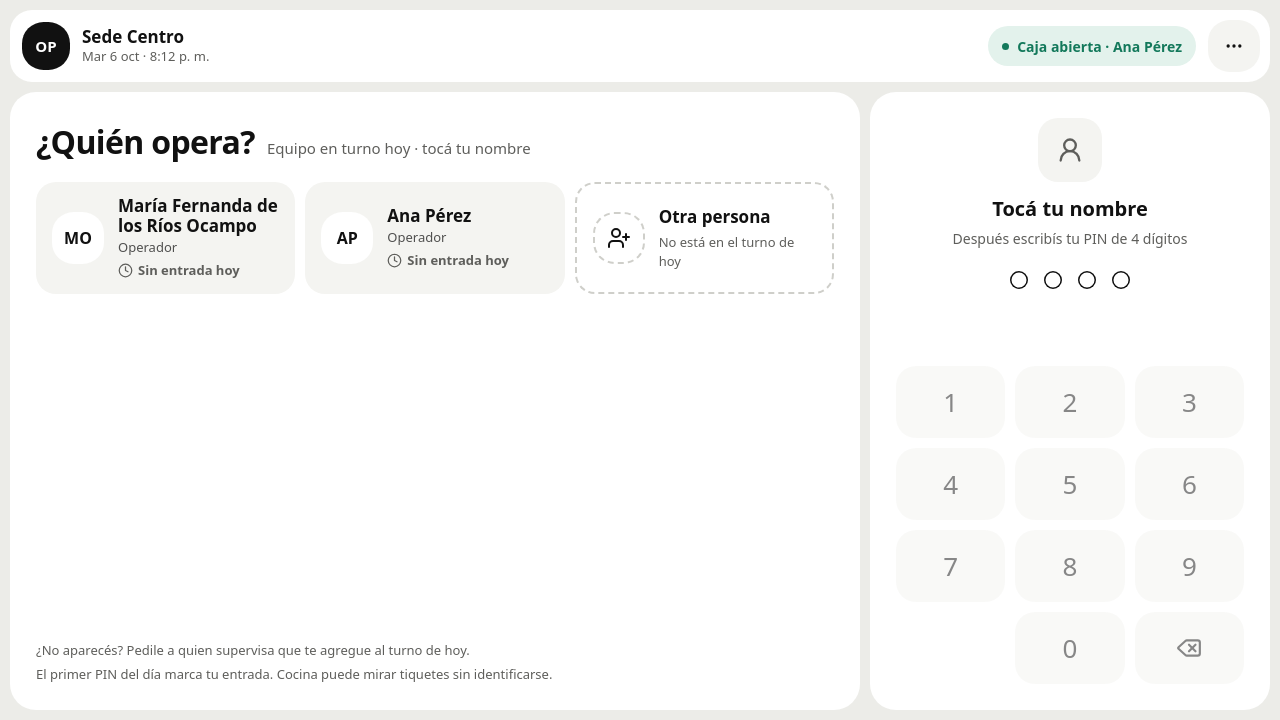
Test: DeviceIdentifyPage — inicio por rol › primero la última persona de la tablet y las del turno; el resto detrás de «Otra persona»
Expected: the radio button with aria-label "María Fernanda de los Ríos Ocampo, Operador" is shown, [36,182,295,294]
Expected: the radio button with aria-label "Ana Pérez, Operador" is shown, [305,182,565,294]
Click the button "Otra persona No está en el turno de hoy": (704, 238) [575,182,834,294]
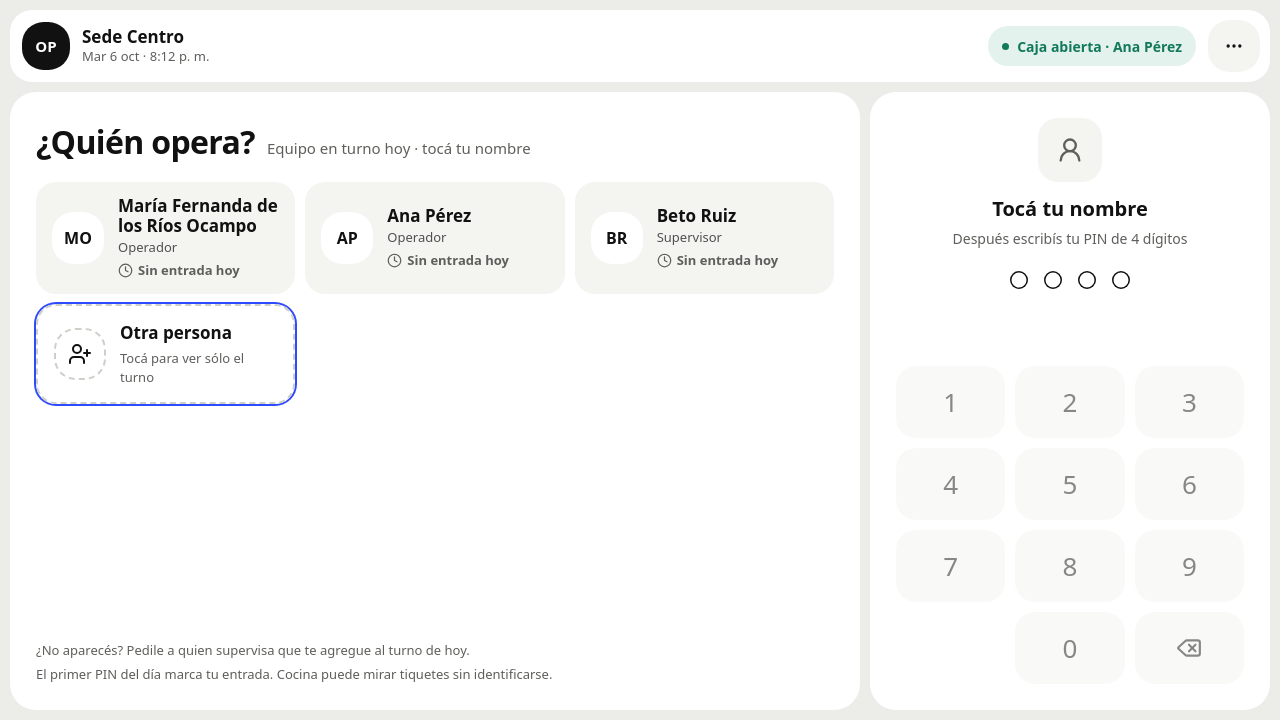
Now the radio button with aria-label "Beto Ruiz, Supervisor" is shown, box [575,182,834,294]
